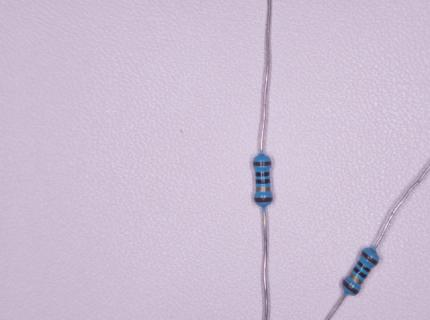Black band: (353, 266, 368, 279), (357, 260, 371, 273), (255, 172, 270, 177), (256, 179, 271, 184)
Brown band: (342, 279, 359, 295), (362, 250, 379, 265), (254, 197, 273, 202), (253, 161, 271, 166)
Gold band: (348, 272, 363, 285), (256, 187, 271, 192)
